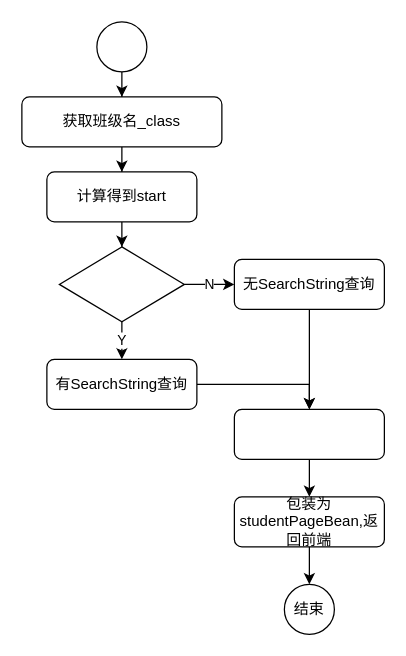
This 406x656 diagram has some shape labels left out. Each missing label, with the centre of its shape:
"searchString是否为空" belongs at pixel 121 284.
"开始" belongs at pixel 121 46.
"计算得到totalPage" belongs at pixel 308 433.
